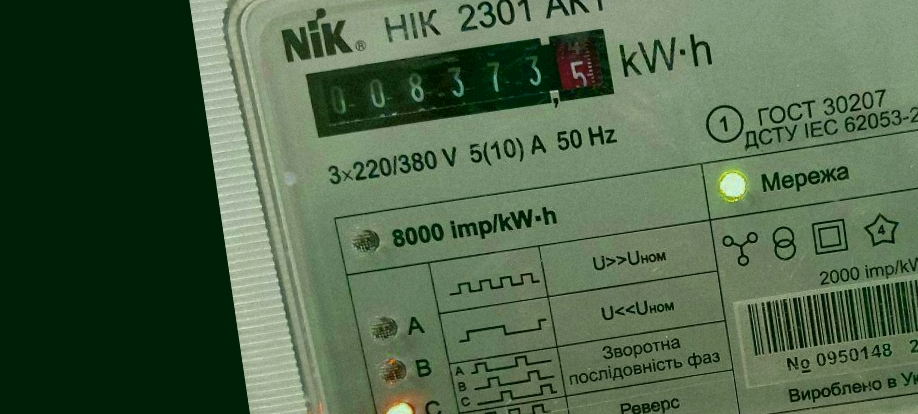0: (325, 79, 350, 118), (365, 73, 389, 111)
3: (520, 49, 547, 89), (443, 61, 469, 100)
4: (563, 35, 584, 58)
5: (567, 56, 591, 88)
7: (482, 54, 506, 96)
8: (403, 67, 429, 105)
screen: (298, 19, 625, 151)
